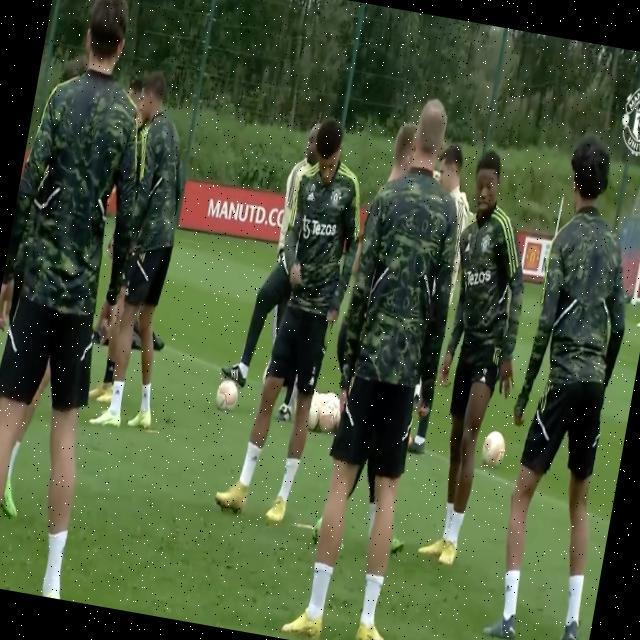Adidas: (305, 188, 318, 204)
